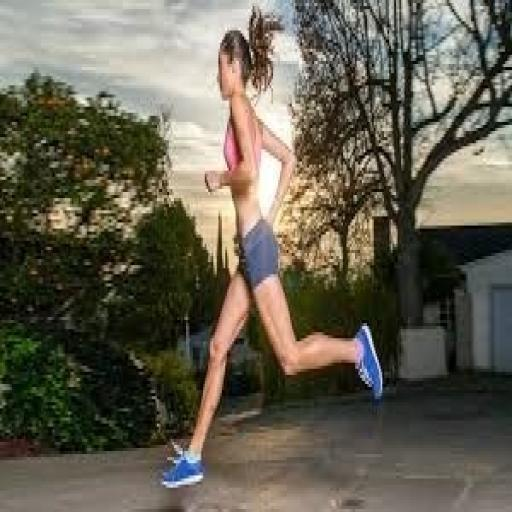running: (157, 9, 386, 494)
